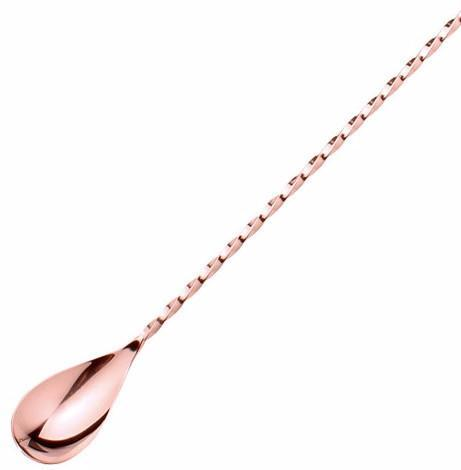Spoon: (10, 8, 461, 465)
